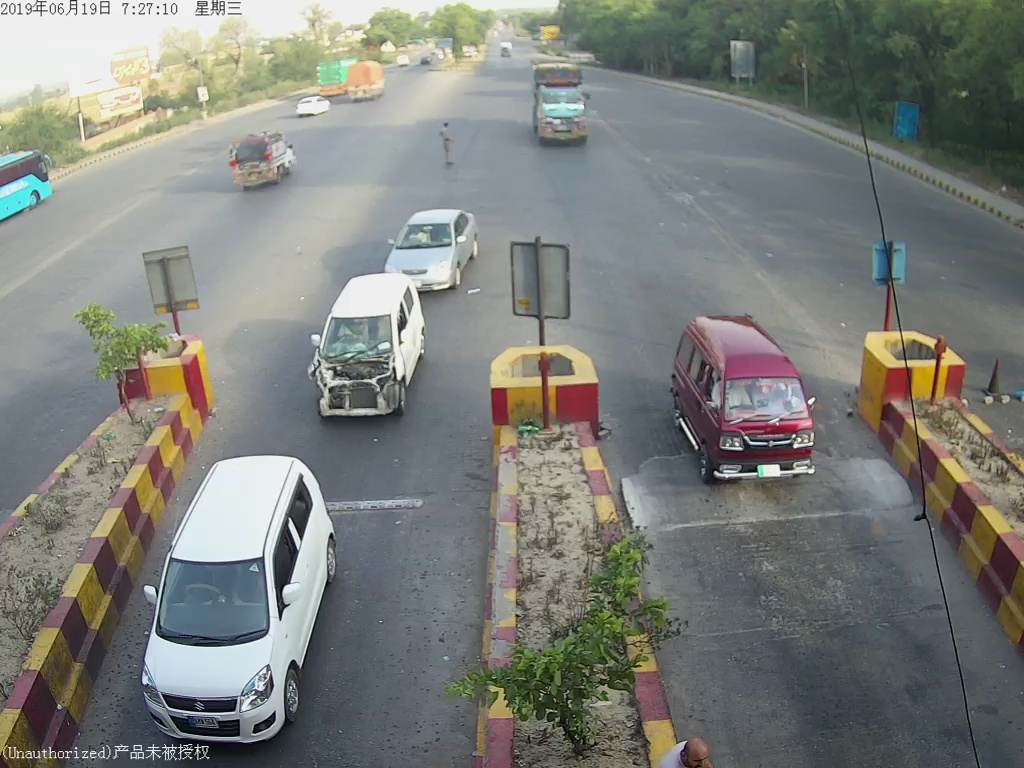Cat-1: (148, 434, 331, 738), (671, 307, 831, 497), (303, 274, 429, 428), (381, 205, 484, 278)
Cat-4: (524, 60, 602, 148)
